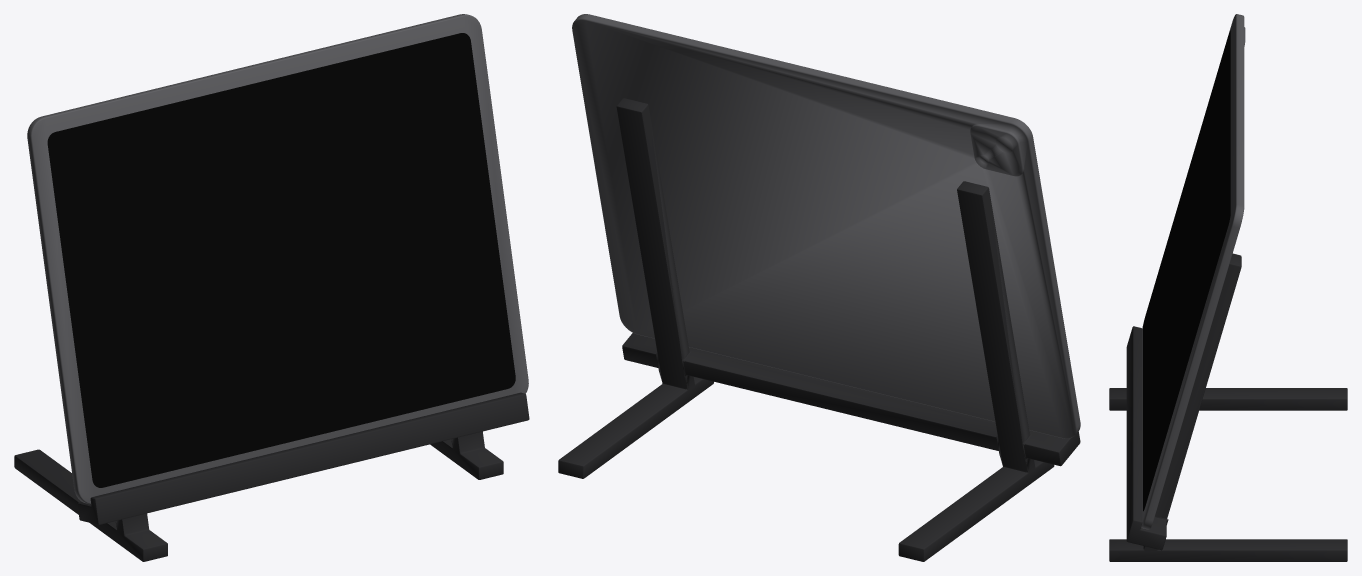
The model's file is sonde.glb.
3 renders of one model, left to right at view 1: azimuth 30°, elevation 25°; view 2: azimuth 150°, elevation 25°; view 3: azimuth 270°, elevation 25°, orthographic. The views are drawn at different scales.
Parts seen in each view (by area): view 1: screen, tablet, easel; view 2: tablet, easel; view 3: screen, easel, tablet.
Part boxes in pixels (x1,y1,x2,y2): screen: (47,33,515,487); tablet: (27,14,528,504); easel: (14,392,529,561); tablet: (572,14,1080,438); easel: (558,98,1080,561); screen: (1143,30,1230,511); easel: (1109,253,1347,561); tablet: (1141,14,1245,529).
Bounding box in the file's own units: 0.2821 × 0.2401 × 0.14.
Materials: 3 (1 with a texture image).
